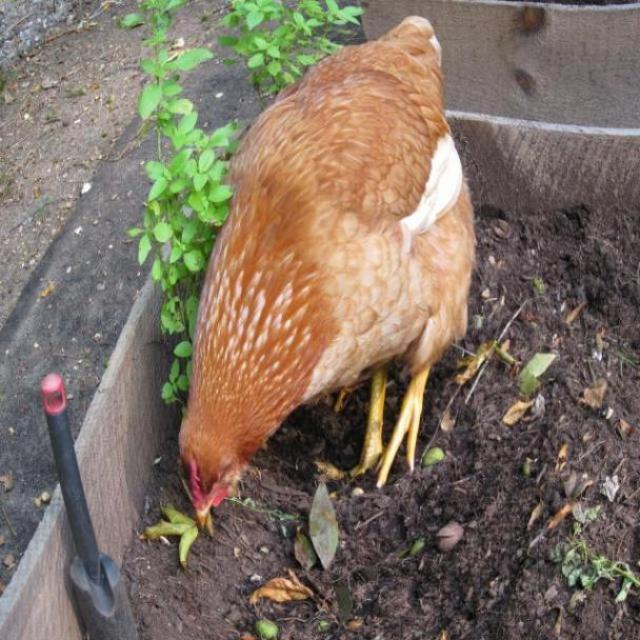Chicken: (178, 14, 477, 525)
